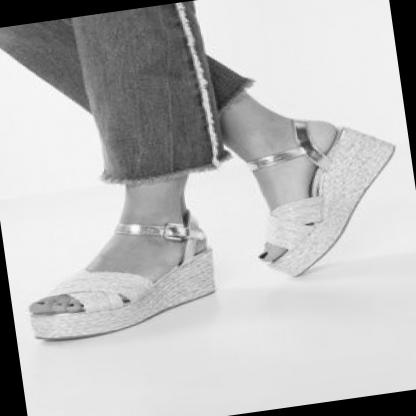ankle: (177, 230, 182, 235), (271, 133, 277, 137)
heel: (331, 127, 337, 132), (202, 244, 208, 249)
left_foot: (19, 212, 220, 345)
pinky: (93, 304, 99, 309), (269, 240, 274, 245)
right_foot: (242, 114, 413, 284)
toe: (273, 256, 283, 262), (37, 303, 43, 308)
